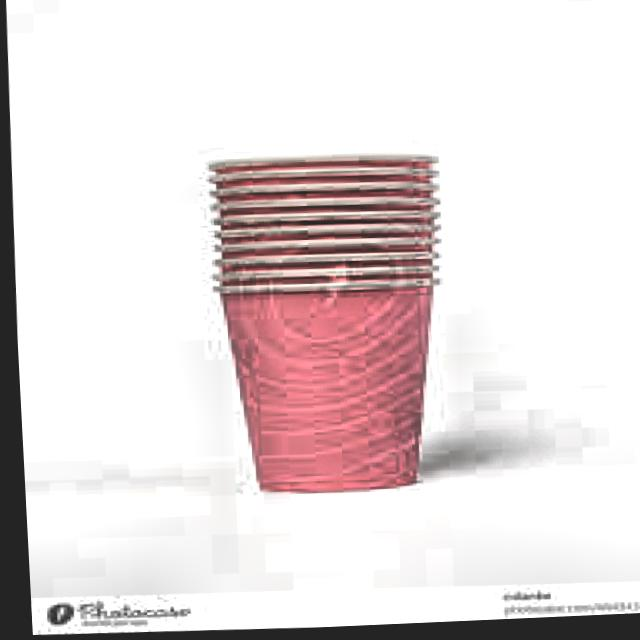Cup: (171, 141, 460, 507)
